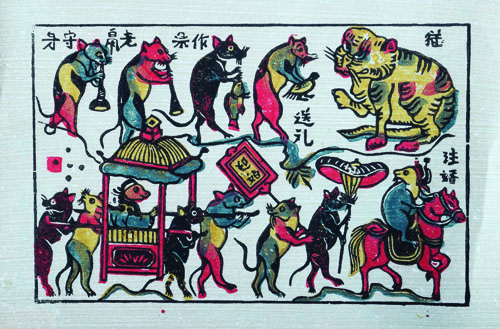chuot_chu_re: (350, 160, 465, 299)
chuot_co_dau: (99, 116, 207, 282)
chuot_khenh_kieu: (163, 185, 257, 298), (36, 195, 101, 295)
chuot_mang_le_vat: (168, 35, 318, 142)
chuot_nguoi_hau: (234, 156, 388, 296), (217, 142, 277, 198)
chuot_nhac_cong: (49, 39, 111, 135), (118, 37, 181, 131)
ho_uy_nghi: (327, 26, 456, 151)
